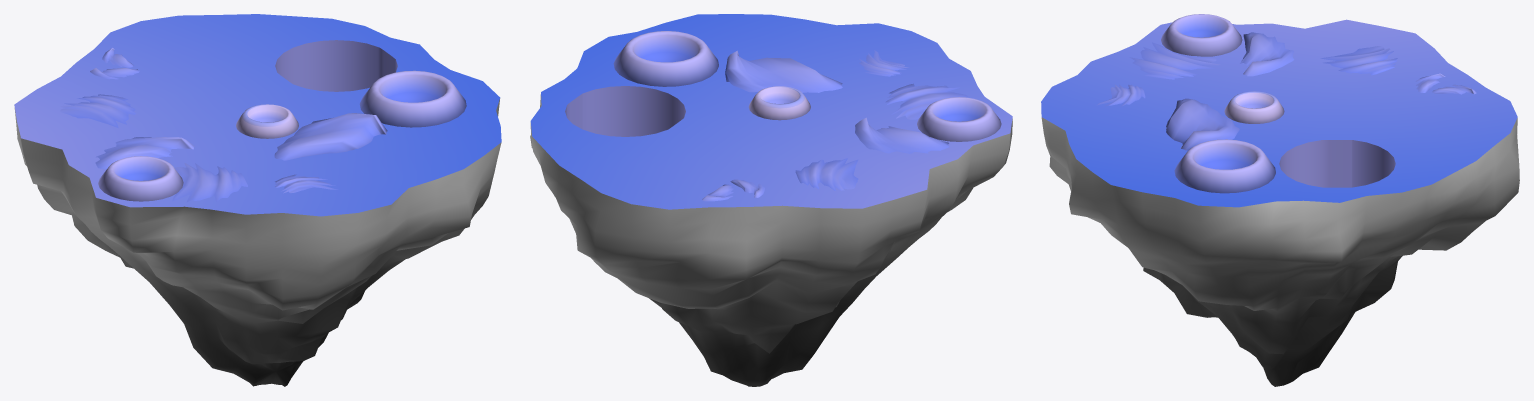
Rendered from Island_V5.fbx.
3 views of the same model, side by side, from view 1: azimuth 30°, elevation 25°; view 2: azimuth 150°, elevation 25°; view 3: azimuth 270°, elevation 25° (orthographic). The views are drawn at different scales.
Visible parts, largest first — view 1: Island_V5; view 2: Island_V5; view 3: Island_V5.
Part boxes in pixels (<box>): Island_V5: <box>14,14,501,386</box>; Island_V5: <box>530,14,1012,386</box>; Island_V5: <box>1041,14,1519,386</box>.
Size of the model in its own units: 2700 by 1851 by 2875.
